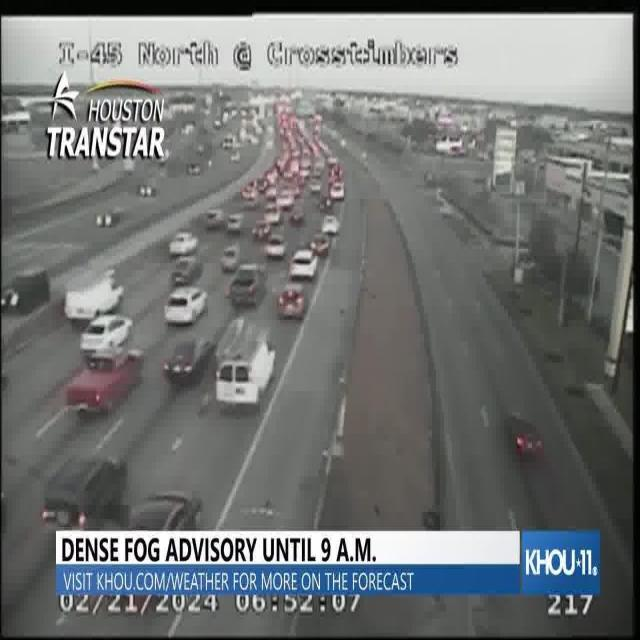Car: (65, 338, 144, 422), (46, 454, 132, 522), (80, 312, 136, 362), (160, 337, 214, 386), (0, 267, 51, 316), (508, 415, 546, 469), (162, 288, 208, 330), (226, 260, 268, 304), (276, 276, 311, 311), (167, 224, 199, 257), (94, 203, 130, 227), (286, 249, 320, 274), (263, 234, 287, 256), (220, 244, 242, 266)
Van: (213, 323, 276, 415)
